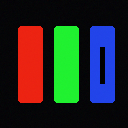4 line_v: (100, 47, 104, 83)
